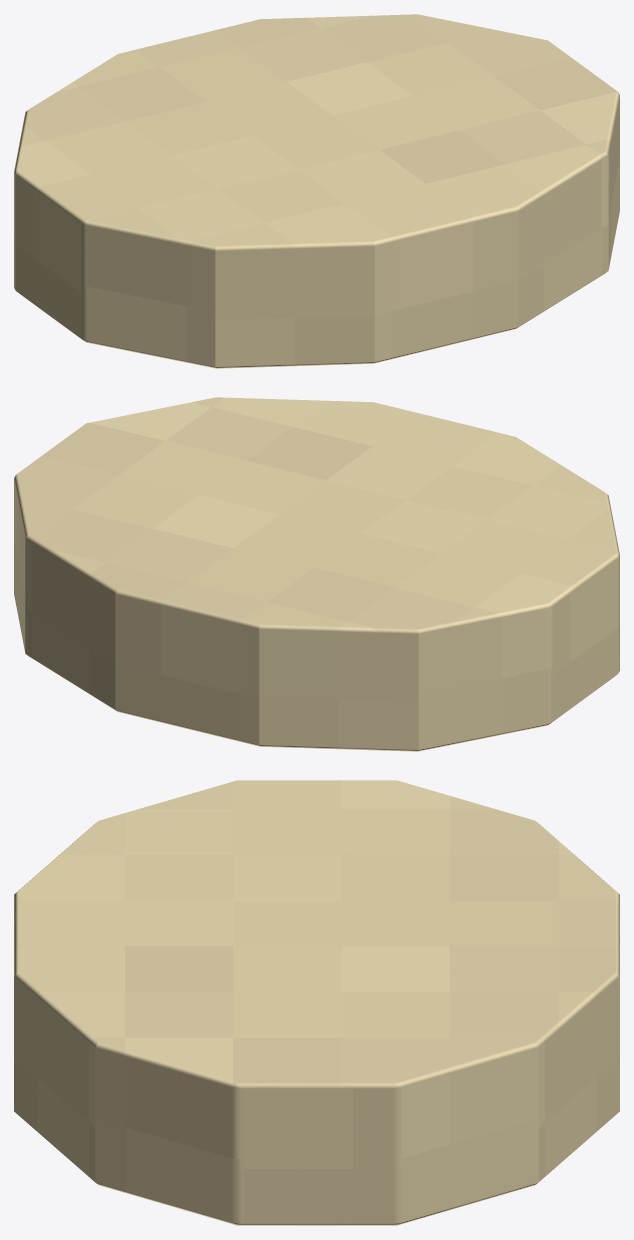
The model's file is Body-band.glb.
The picture shows the model from 3 angles, top to bottom: view 1: azimuth 30°, elevation 25°; view 2: azimuth 150°, elevation 25°; view 3: azimuth 270°, elevation 25°; orthographic projection. The views are drawn at different scales.
Visible parts, largest first — view 1: Body-band; view 2: Body-band; view 3: Body-band.
Boxes of the visible parts, box(x1,y1,x2,y2) form: Body-band: box(14, 14, 619, 368); Body-band: box(14, 397, 619, 751); Body-band: box(14, 780, 619, 1225).
Size of the model in its own units: 0.2608 by 0.057 by 0.2183.
Materials: 1 (1 with a texture image).
